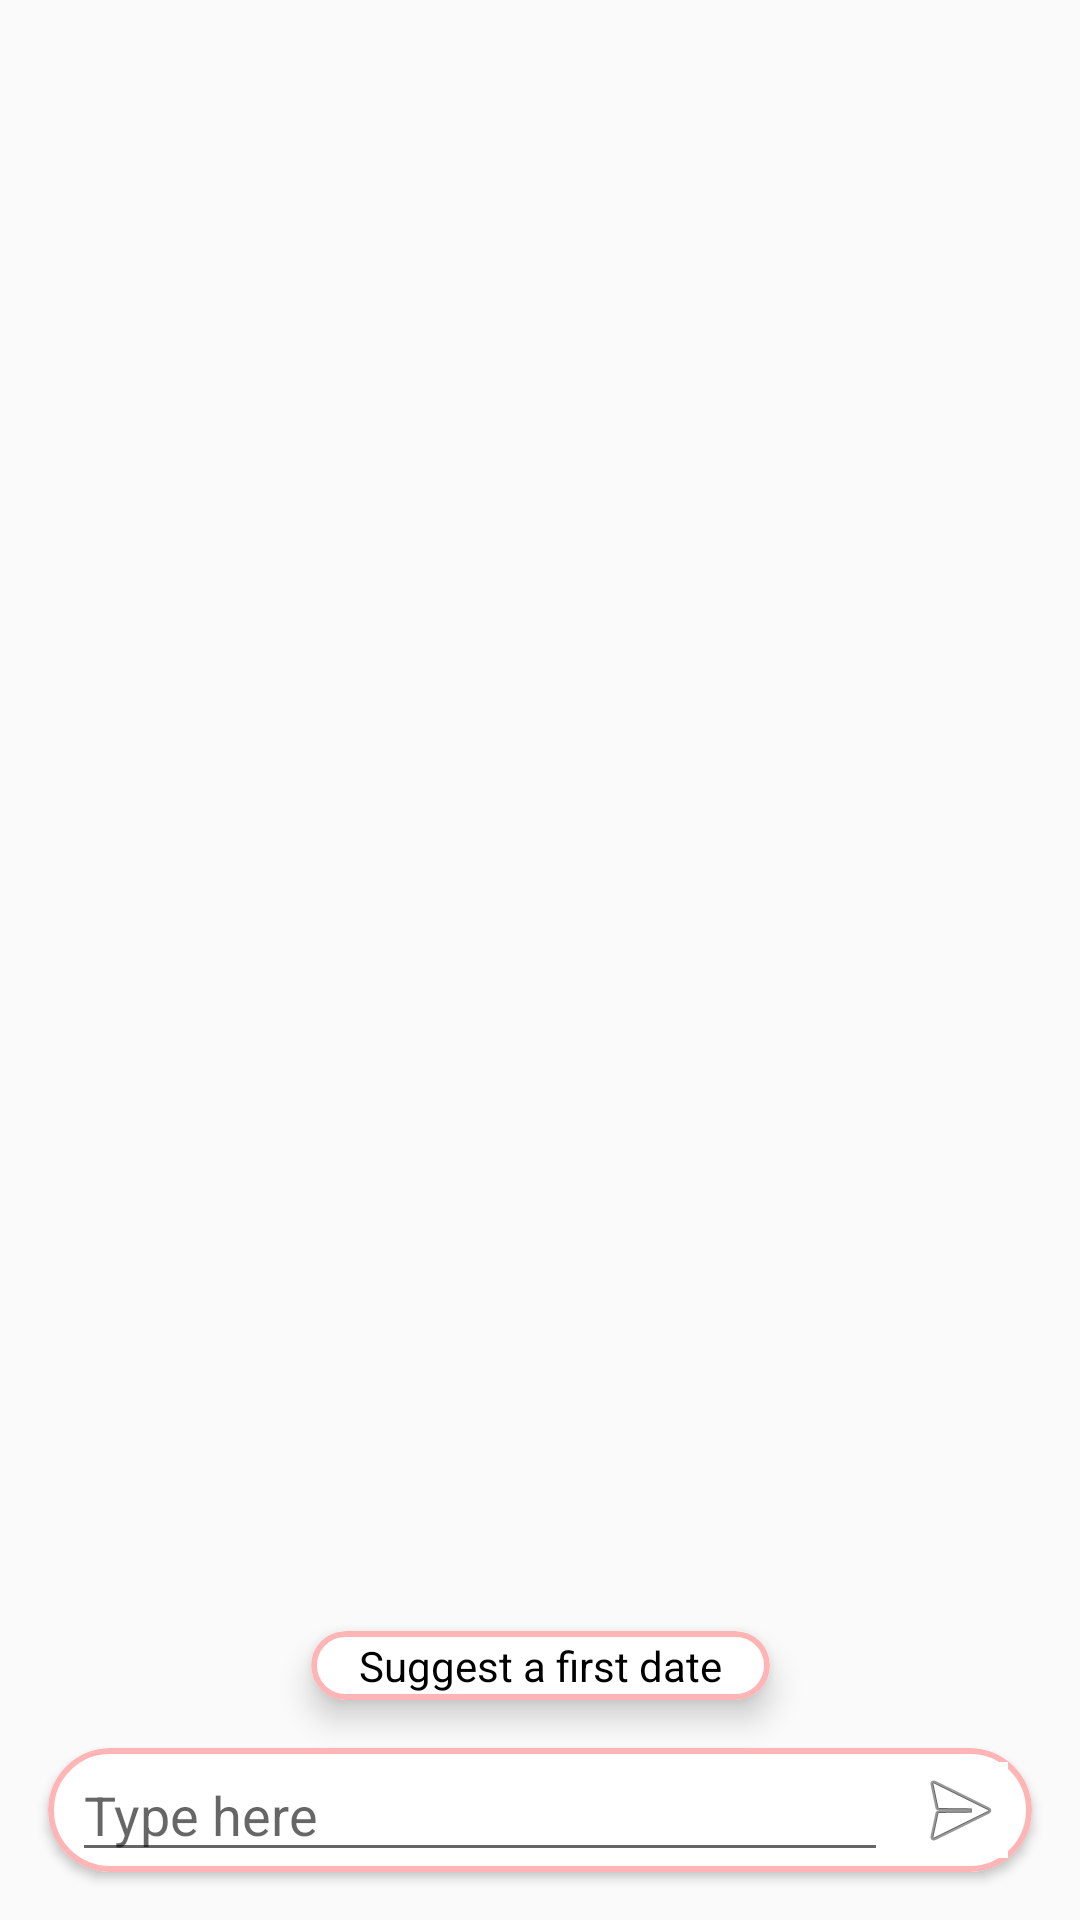

Icon bounding boxes for this 1080*1920 phone screenshot, format (x1, y1, x2, y2):
send: (930, 1780, 992, 1841)
